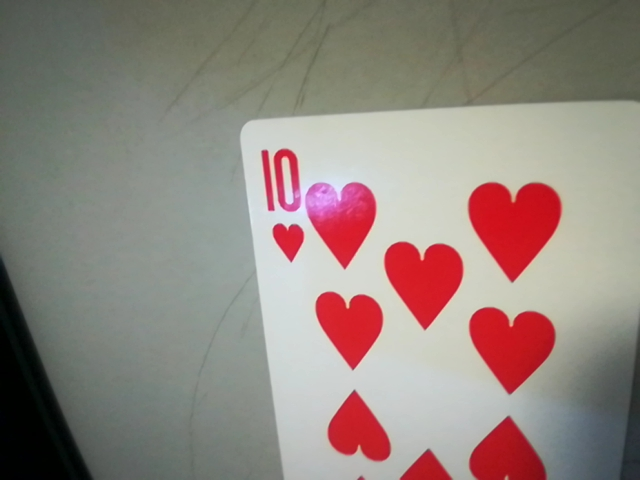hx 10: (249, 136, 316, 268)
